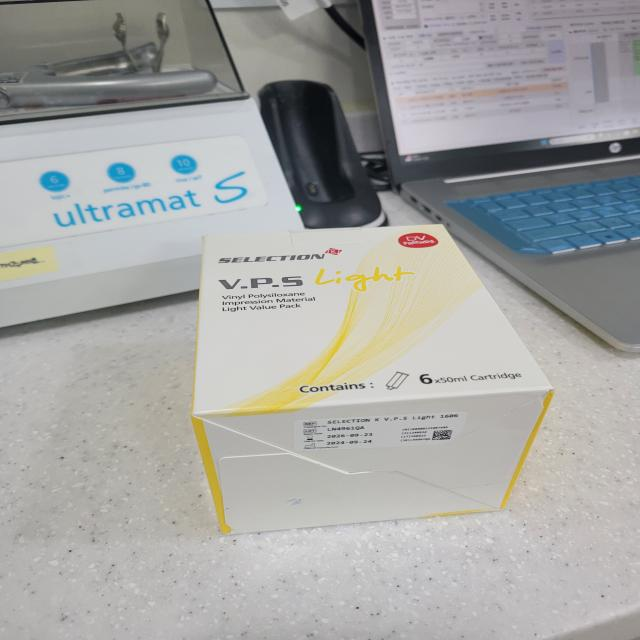impression: (147, 207, 587, 543)
